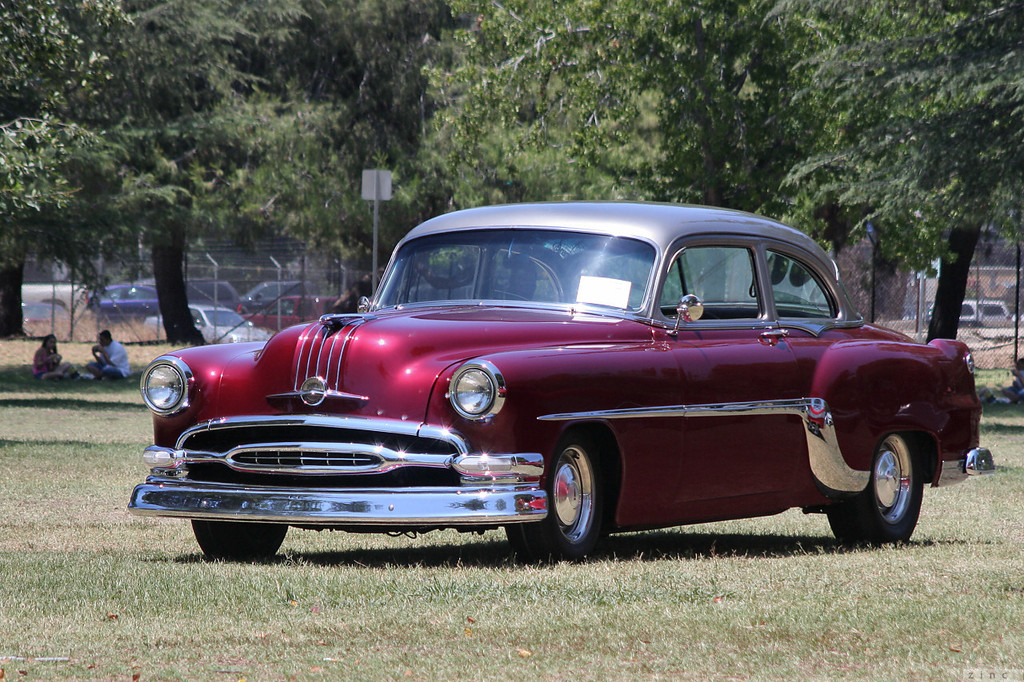Car: (131, 199, 1002, 553), (131, 305, 284, 347), (243, 280, 342, 326), (963, 303, 1011, 326)
